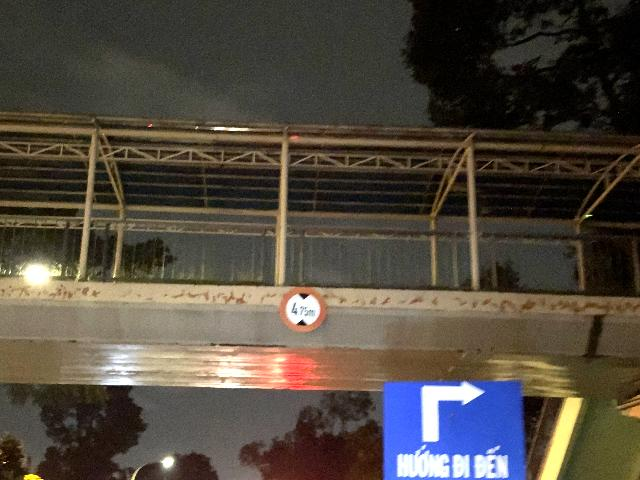han-che-chieu-cao: (281, 286, 328, 332)
